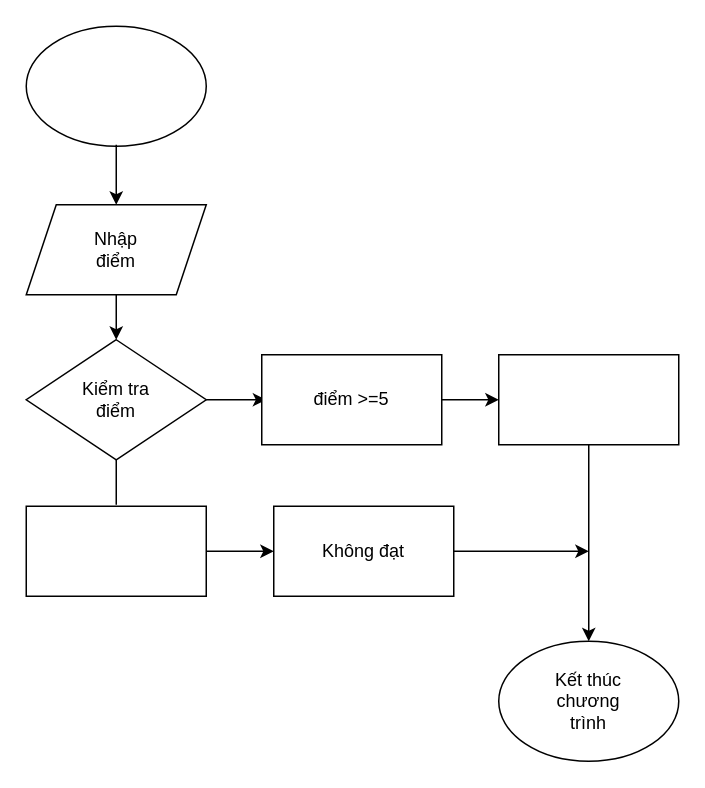
Some shapes in this 705 by 788 pixel diagram are drawn without their labels. The centre of each missing label's shape, as x and y in pixels:
Bắt đầu chương trình: (x=115, y=85)
điểm < 5: (x=115, y=550)
Đạt: (x=588, y=399)
